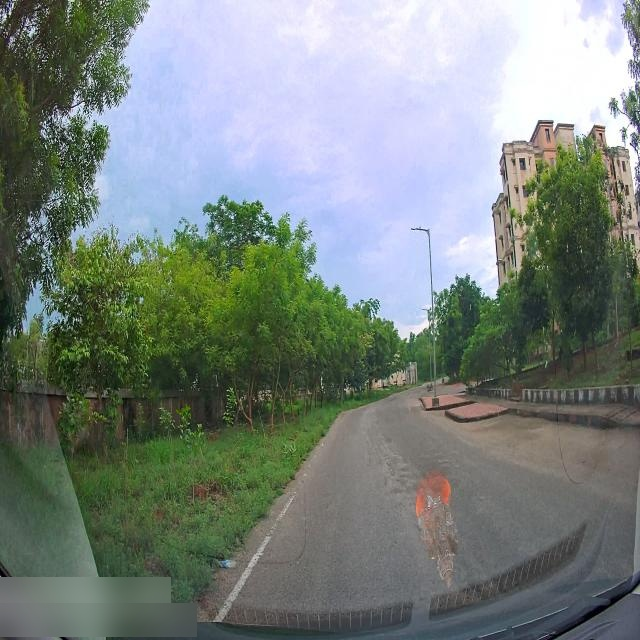pothole: (374, 434, 406, 460), (380, 473, 419, 494)
